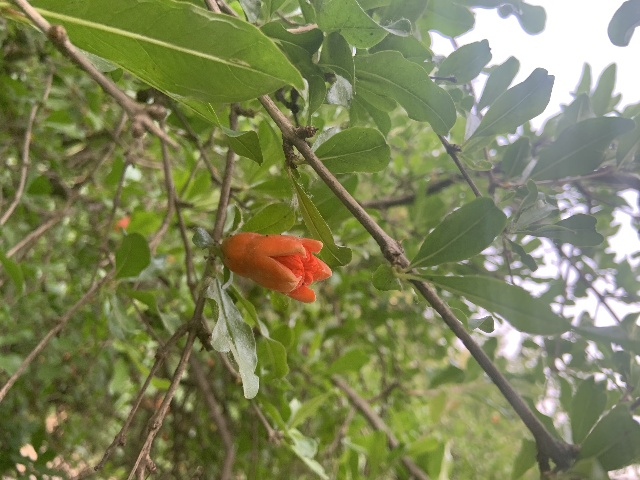flower: (221, 231, 331, 303)
